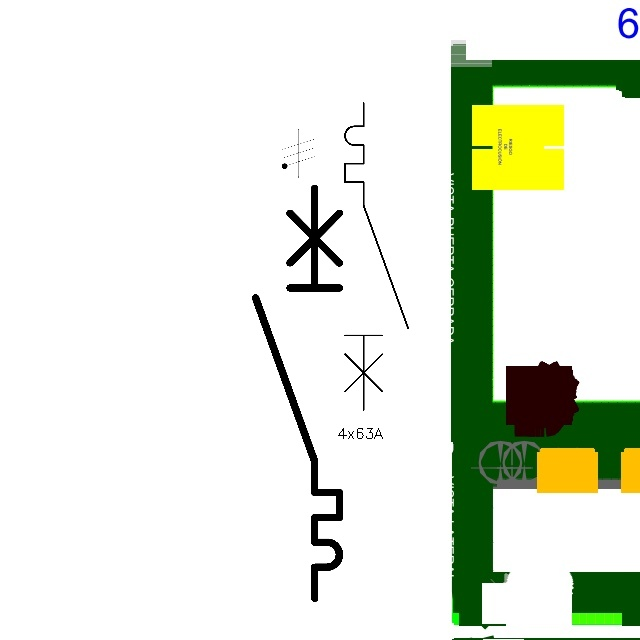interruptor_termomagnetico: (245, 177, 350, 608), (337, 95, 416, 418)
